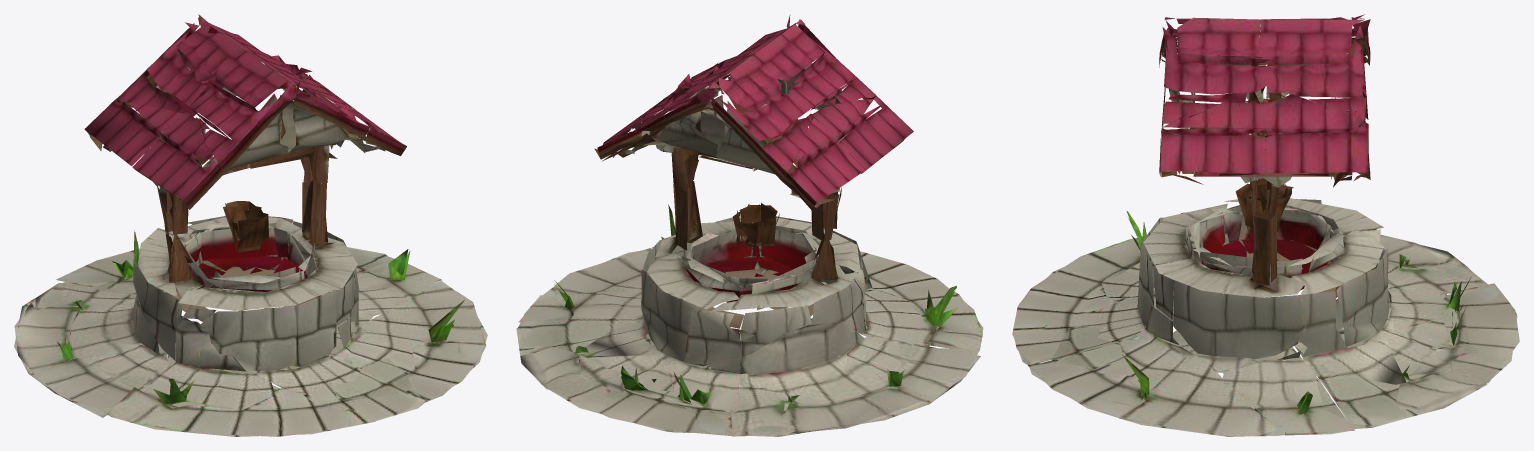
File: well.7fcbfc332fba.glb
3 renders of one model, left to right at view 1: azimuth 30°, elevation 25°; view 2: azimuth 150°, elevation 25°; view 3: azimuth 270°, elevation 25°, orthographic. The views are drawn at different scales.
Visible parts, largest first — view 1: Mesh_0.001; view 2: Mesh_0.001; view 3: Mesh_0.001.
Boxes of the visible parts, box(x1,y1,x2,y2) form: Mesh_0.001: box(14, 14, 487, 436); Mesh_0.001: box(516, 14, 983, 436); Mesh_0.001: box(1012, 14, 1519, 436).
Size of the model in its own units: 4.33 by 3 by 4.36.
1 material, 1 textured.
